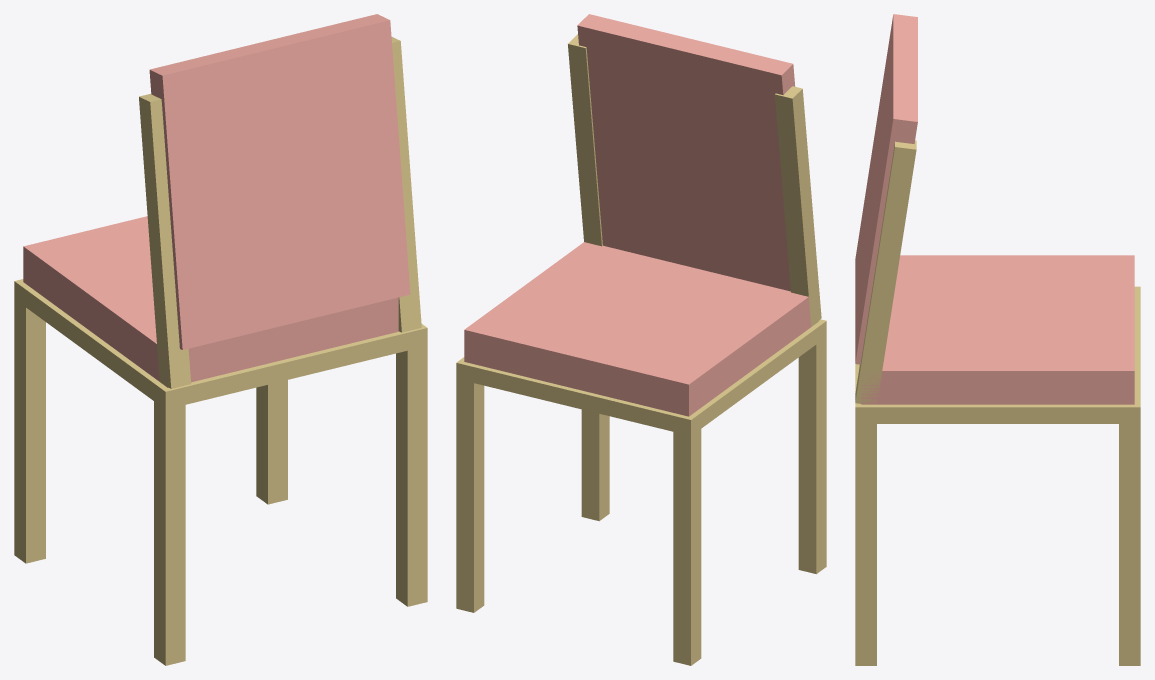
File: bb_set_diningchair.fbx
3 renders of one model, left to right at view 1: azimuth 30°, elevation 25°; view 2: azimuth 150°, elevation 25°; view 3: azimuth 270°, elevation 25°, orthographic. The views are drawn at different scales.
Visible parts, largest first — view 1: bb_set_diningchair; view 2: bb_set_diningchair; view 3: bb_set_diningchair.
Part boxes in pixels (box(x1,y1,x2,y2)): bb_set_diningchair: box(14, 14, 427, 665); bb_set_diningchair: box(456, 14, 826, 665); bb_set_diningchair: box(855, 14, 1140, 665).
Bounding box in the file's own units: 0.46 × 0.9585 × 0.46.
